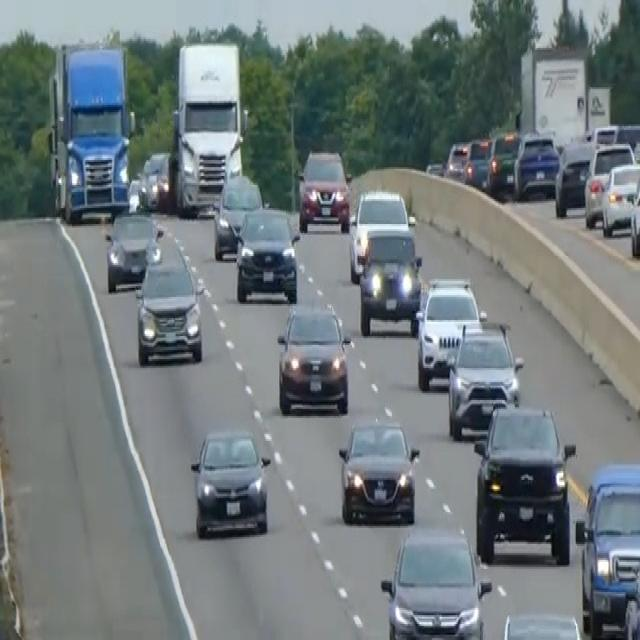car: (379, 524, 491, 638), (575, 461, 639, 638), (446, 315, 523, 439), (189, 425, 271, 539), (134, 233, 204, 366), (337, 414, 420, 524), (275, 300, 351, 416), (414, 274, 483, 391), (358, 224, 422, 336), (234, 204, 300, 304), (347, 187, 412, 281), (104, 206, 163, 292), (296, 146, 351, 233), (211, 170, 263, 260), (583, 138, 635, 228), (554, 137, 597, 217), (512, 130, 560, 201), (600, 160, 639, 236), (499, 608, 585, 638), (485, 128, 521, 194), (139, 149, 172, 210), (463, 135, 492, 189), (445, 137, 470, 181), (629, 162, 639, 258)
jeep: (472, 400, 576, 565)
lorry: (46, 38, 135, 222), (168, 39, 247, 215)
